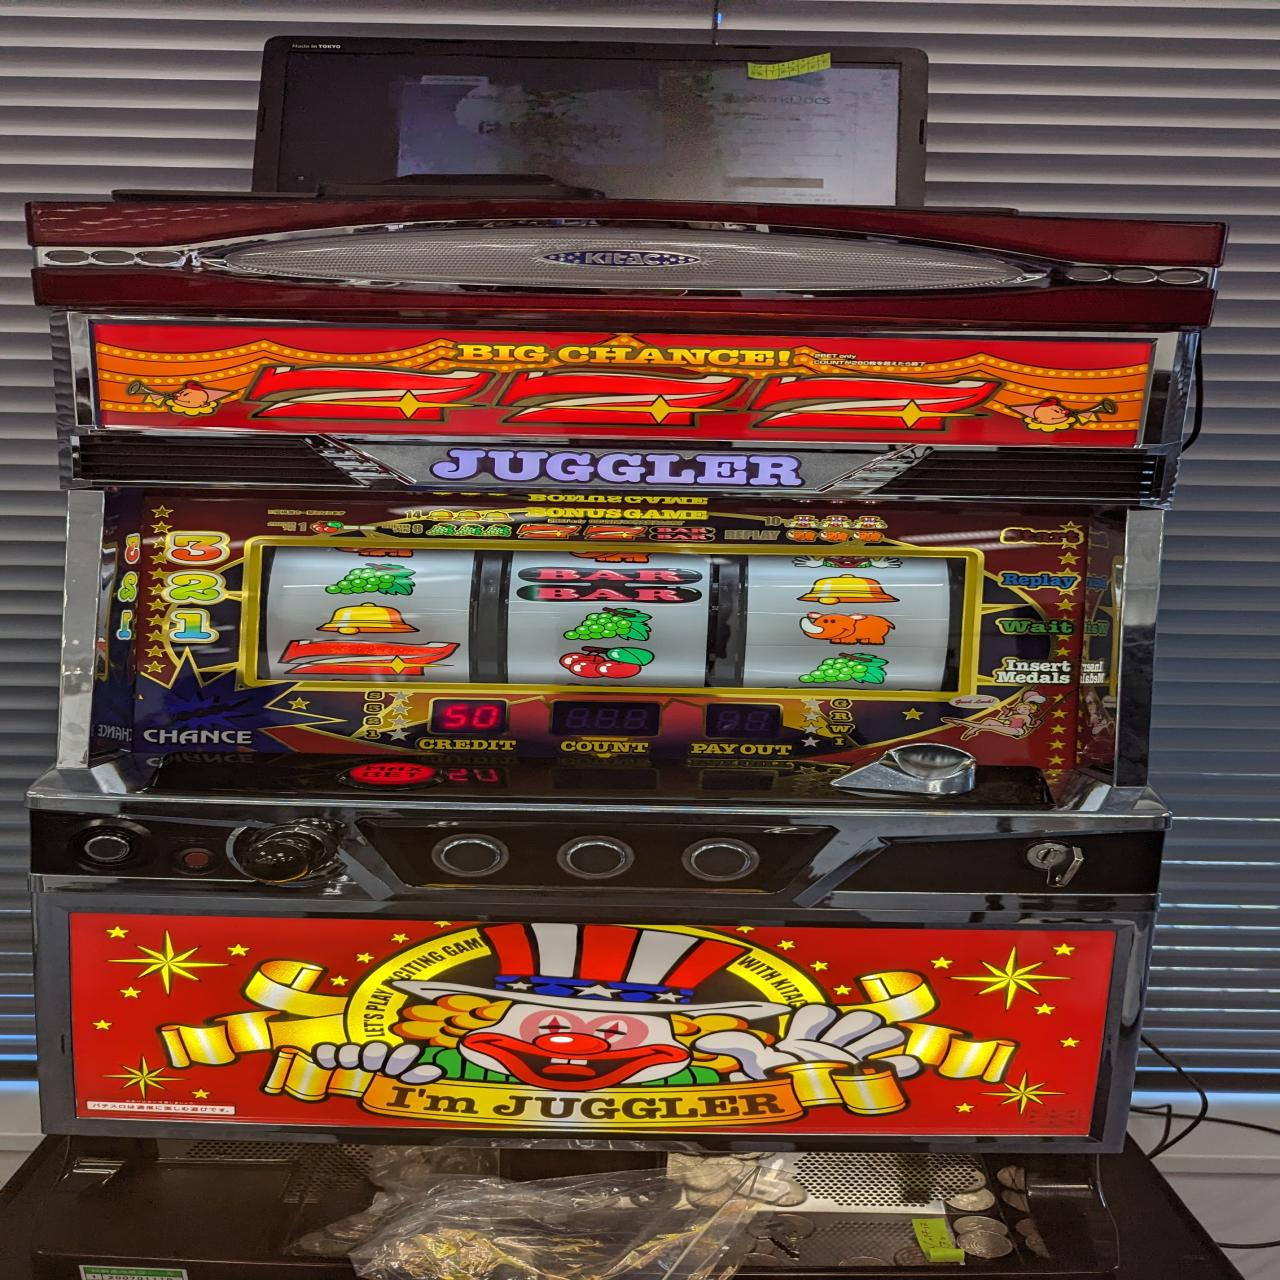7: (281, 638, 458, 680)
8: (798, 611, 897, 646)
Display: (250, 535, 975, 702)
bar: (516, 565, 706, 606)
bell: (316, 602, 422, 639), (796, 573, 897, 606)
cherry: (554, 645, 658, 678)
grape: (322, 561, 418, 597), (563, 606, 655, 641), (799, 652, 892, 686)
